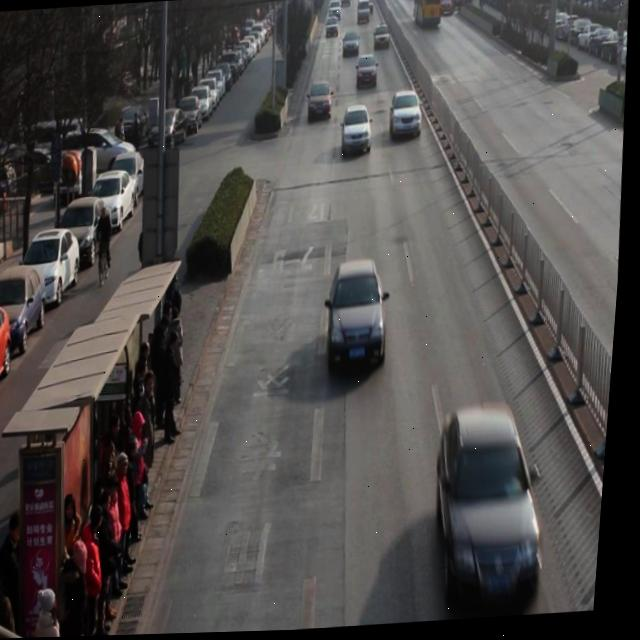car: (435, 403, 561, 613), (329, 260, 398, 377), (390, 91, 427, 144), (343, 105, 377, 160), (308, 80, 335, 126), (356, 55, 381, 93), (341, 31, 363, 61), (373, 23, 393, 55)
